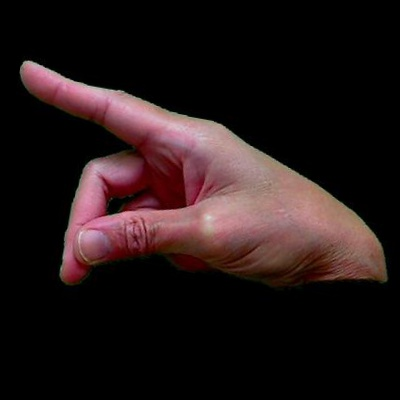p: (1, 1, 398, 383)
